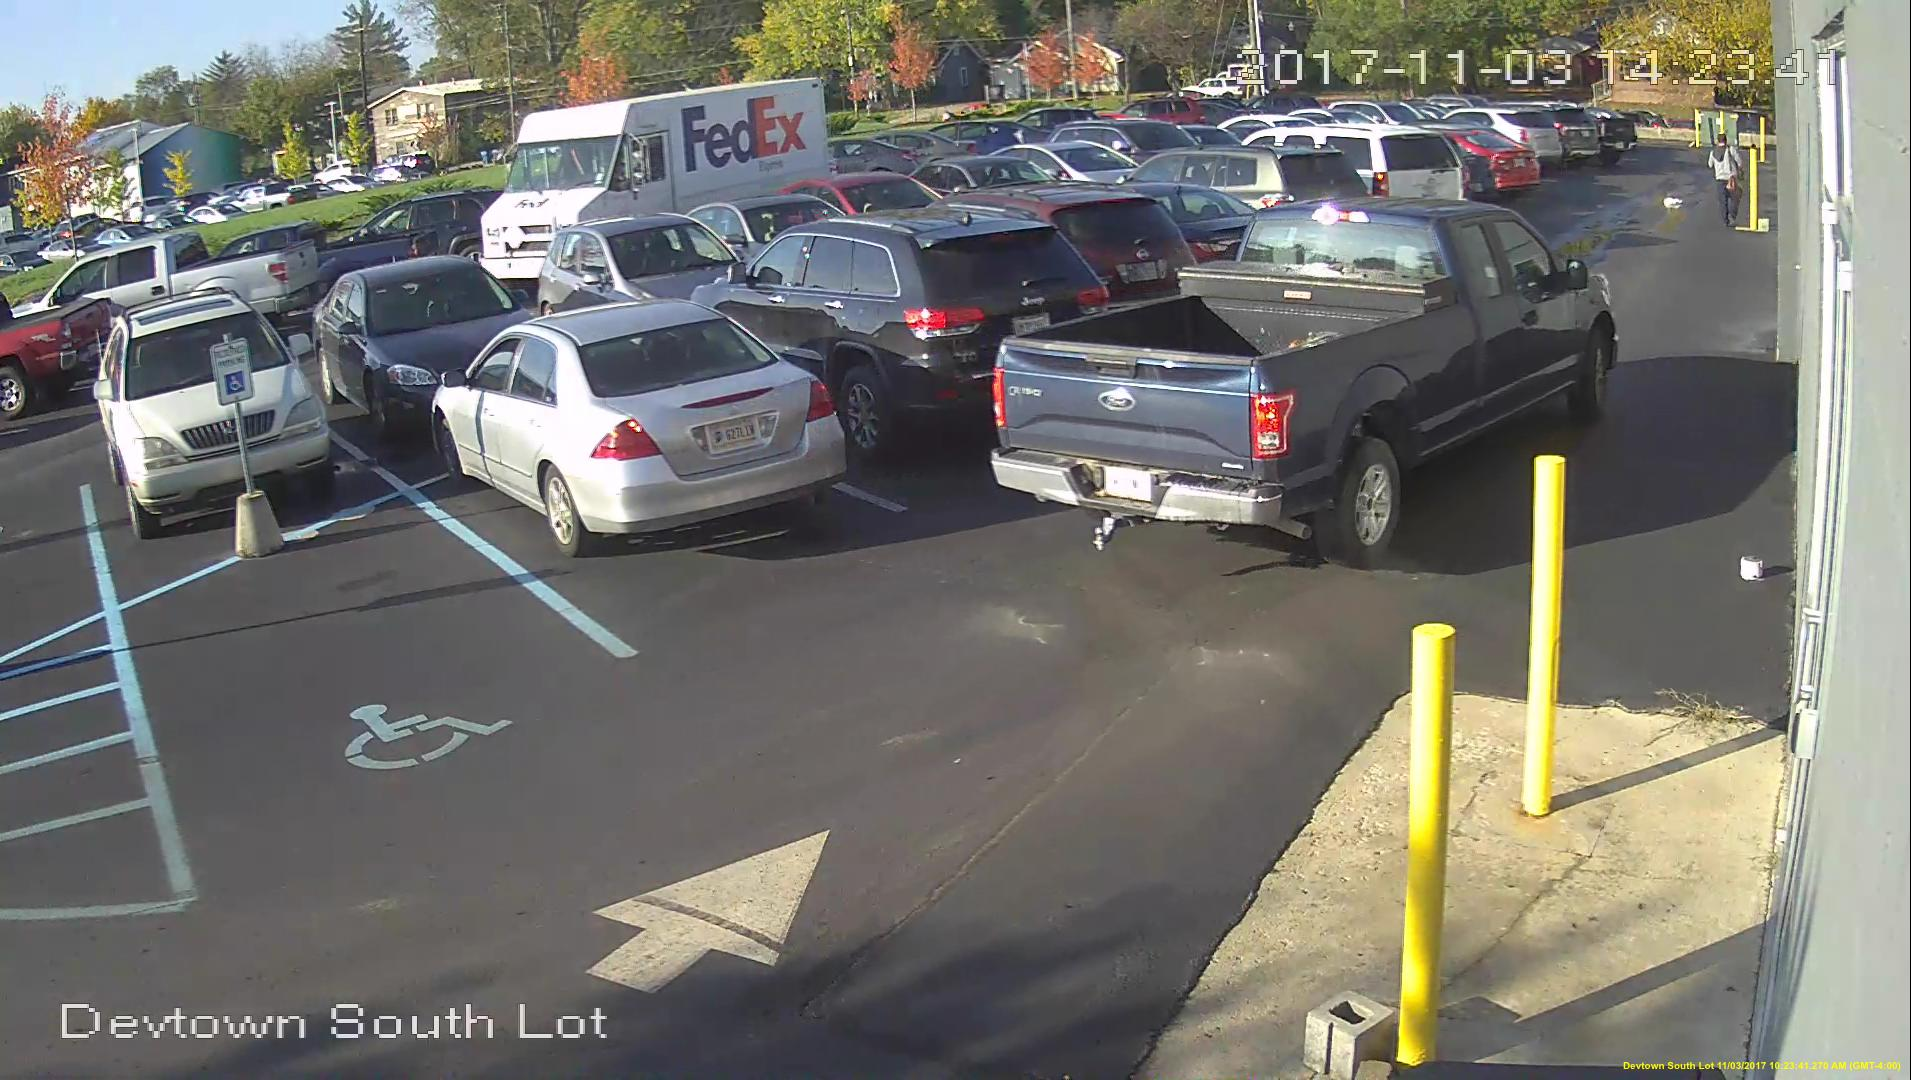fedex_truck: (476, 79, 826, 282)
